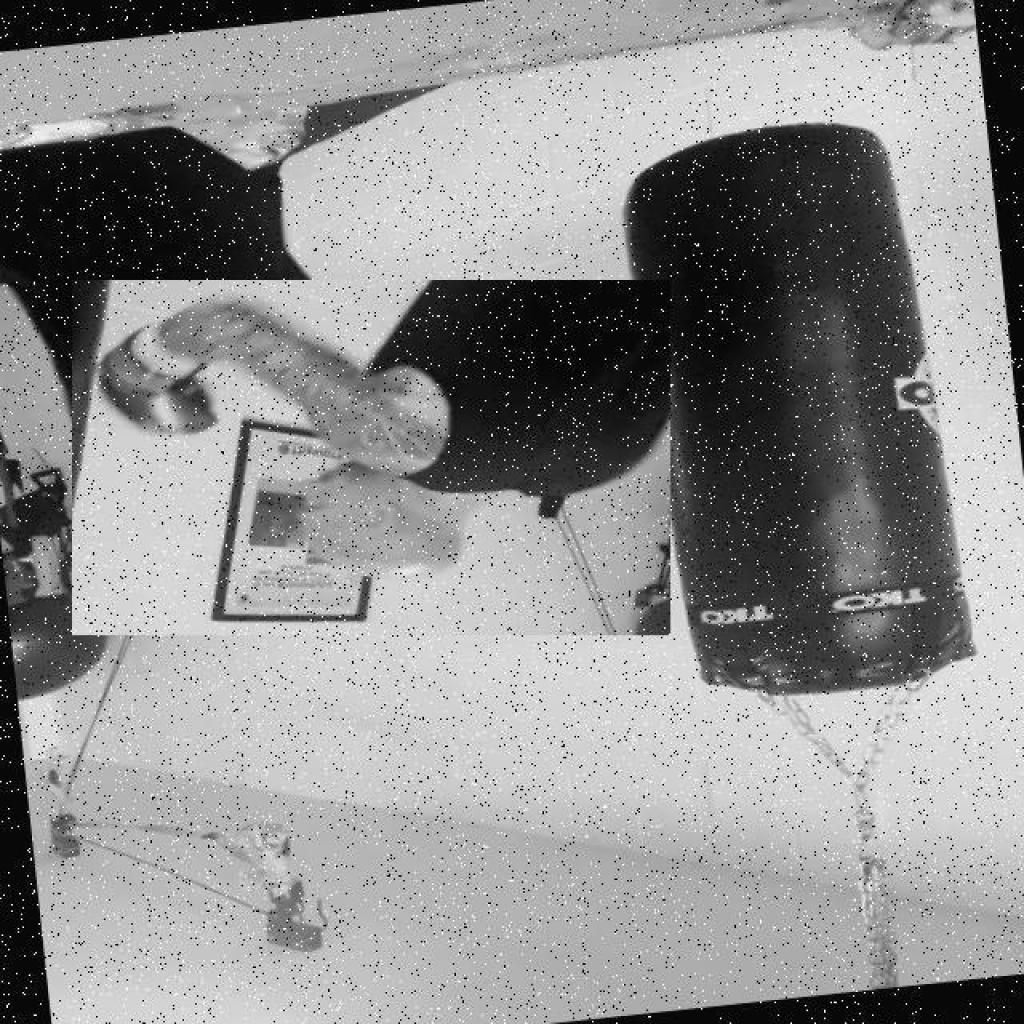bag: (573, 109, 990, 712)
hook: (72, 280, 670, 635)
